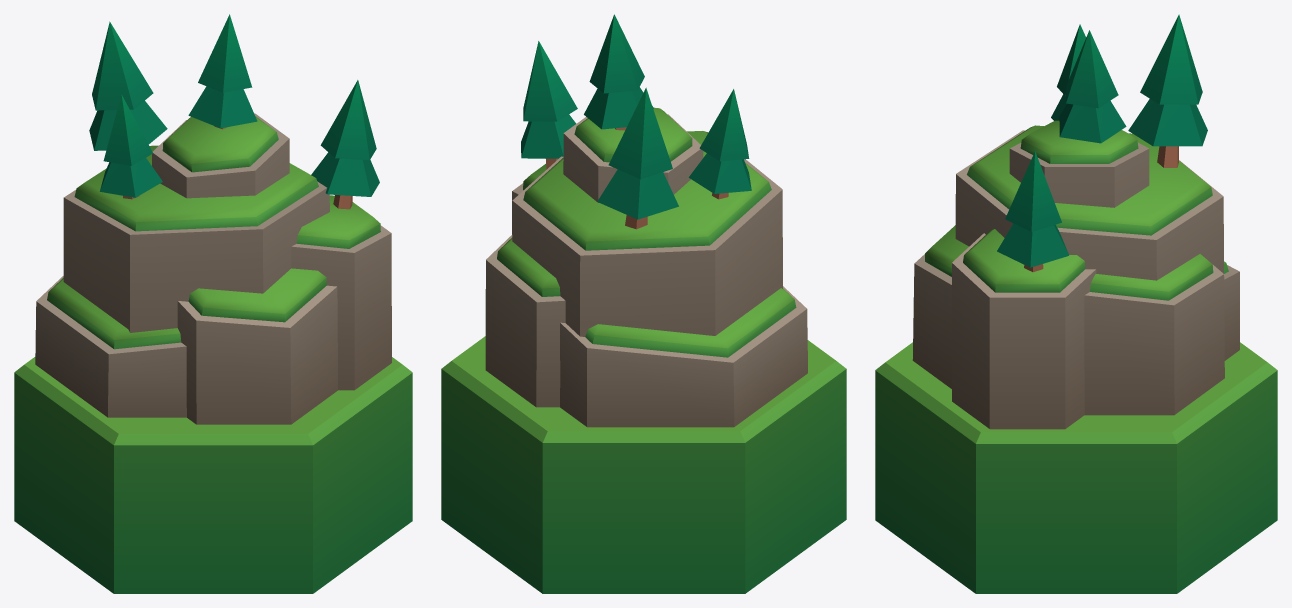
The model's file is hex_mountain_a_trees.glb.
The picture shows the model from 3 angles, left to right: view 1: azimuth 30°, elevation 25°; view 2: azimuth 150°, elevation 25°; view 3: azimuth 270°, elevation 25°; orthographic projection.
Visible parts, largest first — view 1: hex_mountain_a_trees; view 2: hex_mountain_a_trees; view 3: hex_mountain_a_trees.
Boxes of the visible parts, box(x1,y1,x2,y2) form: hex_mountain_a_trees: box(14, 14, 412, 593); hex_mountain_a_trees: box(441, 14, 846, 593); hex_mountain_a_trees: box(875, 14, 1277, 593).
Size of the model in its own units: 1 by 1.59 by 1.15.
Materials: 1 (1 with a texture image).
